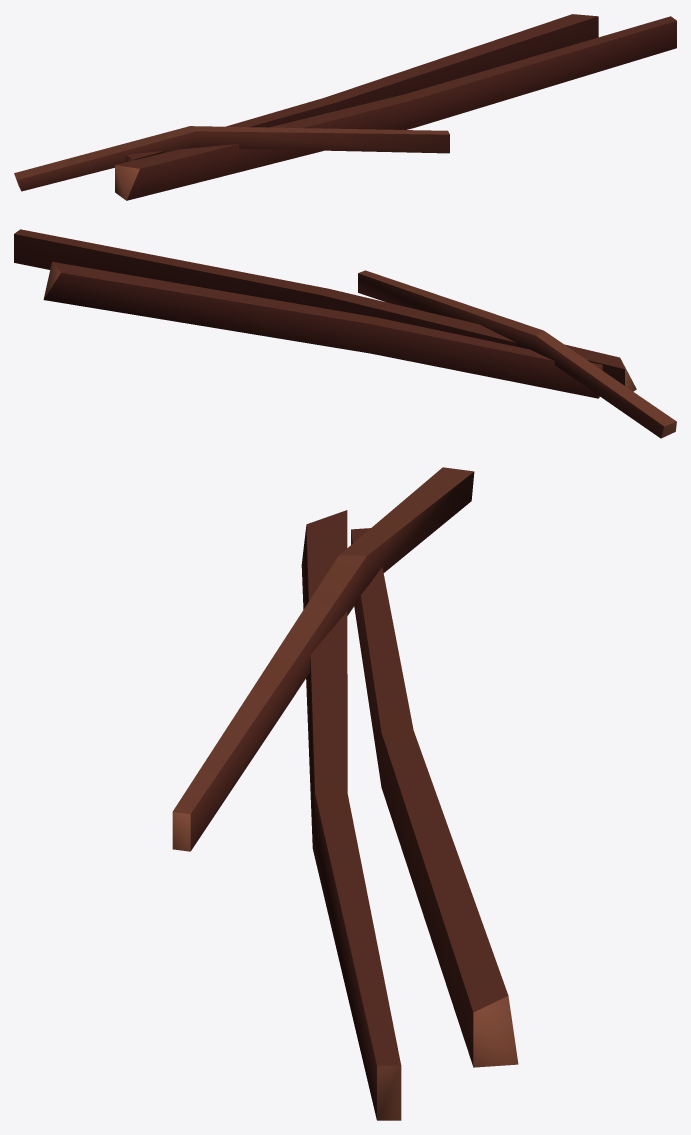
Rendered from Wooden_Twigs_1A.fbx.
3 views of the same model, one above another, from view 1: azimuth 30°, elevation 25°; view 2: azimuth 150°, elevation 25°; view 3: azimuth 270°, elevation 25° (orthographic). The views are drawn at different scales.
Visible parts, largest first — view 1: Wooden_Twigs_1A; view 2: Wooden_Twigs_1A; view 3: Wooden_Twigs_1A.
Boxes of the visible parts, x1=… form: Wooden_Twigs_1A: x1=14, y1=14, x2=676, y2=200; Wooden_Twigs_1A: x1=14, y1=229, x2=676, y2=438; Wooden_Twigs_1A: x1=172, y1=467, x2=518, y2=1120.
Size of the model in its own units: 122 by 7.89 by 28.47.
